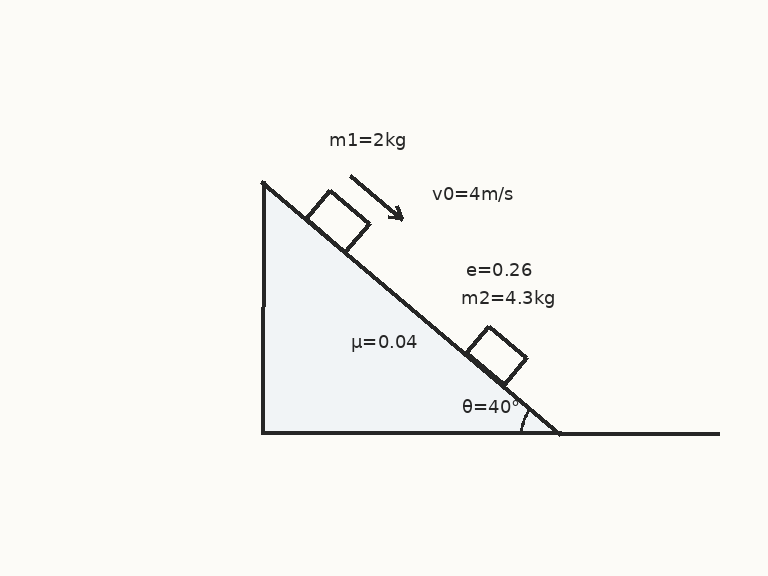block: (304, 188, 371, 254), (464, 324, 528, 386)
ramp: (260, 180, 563, 435)
